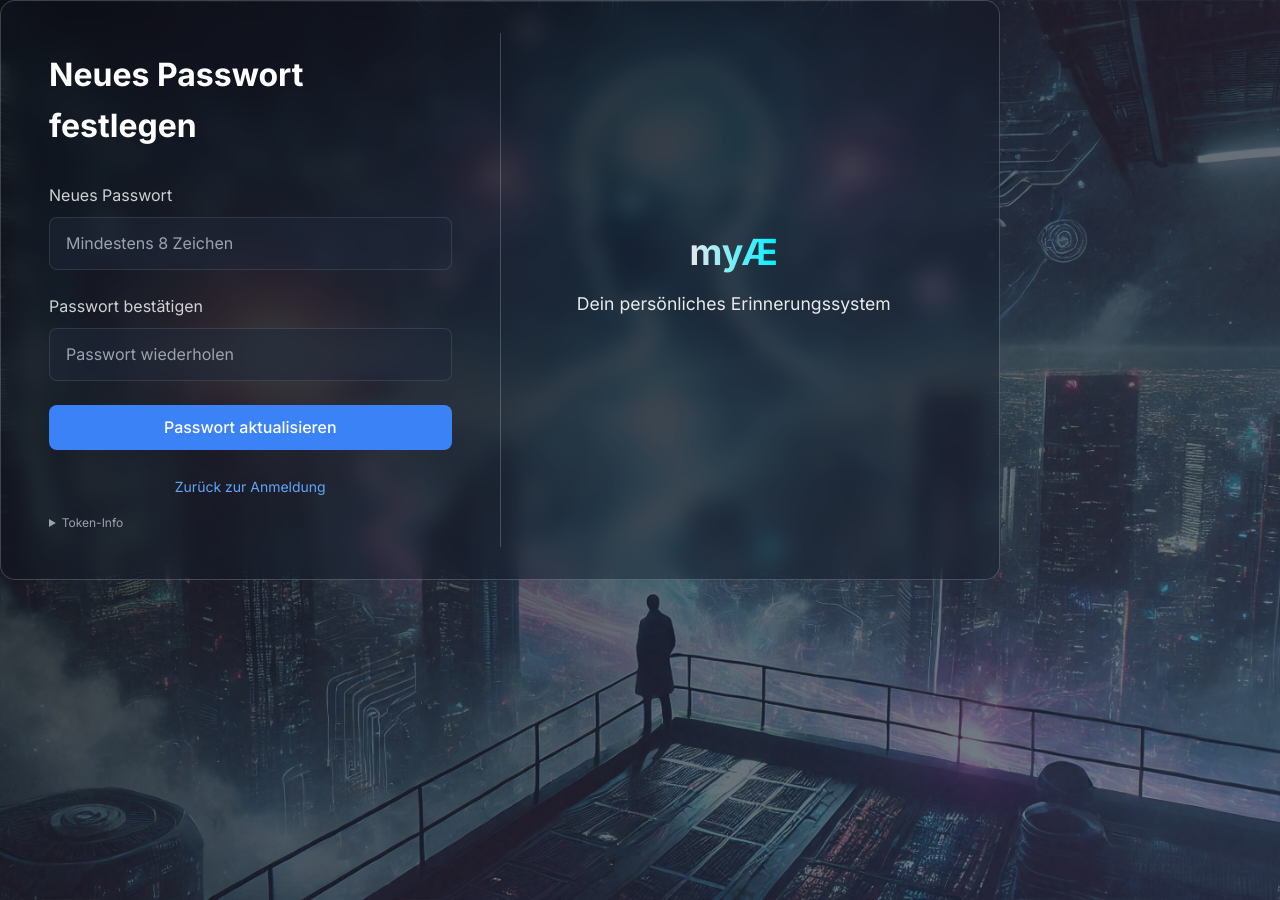
Test: UpdatePasswordForm › zeigt Fehlermeldung bei fehlgeschlagener API-Anfrage
The width and height of the screenshot is (1280, 900).
// Gültiges Passwort eingeben
Type "neuesPasswort123" into the password field labelled "Neues Passwort" at (250, 244), box [49,217,452,270]
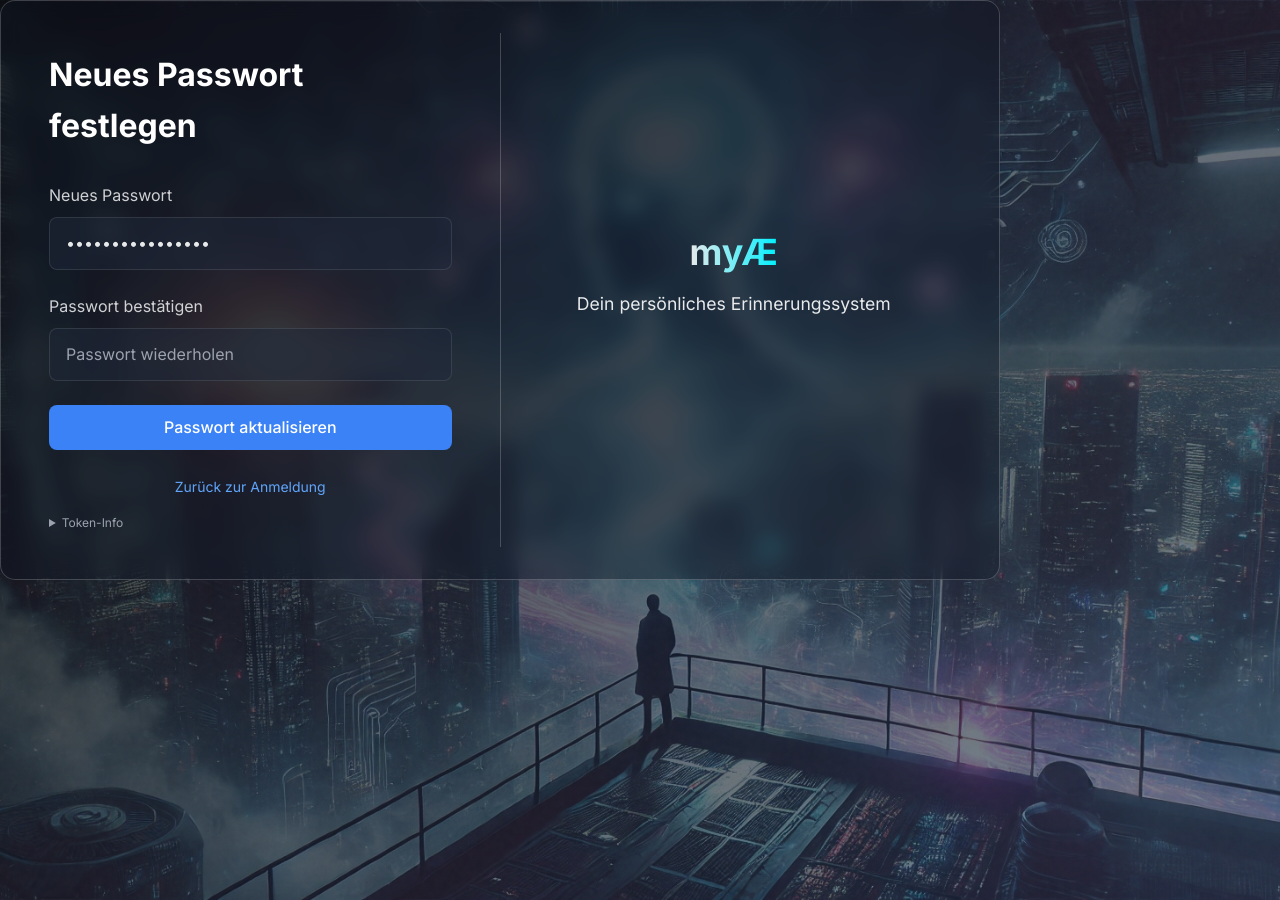
Type "neuesPasswort123" into the password field labelled "Passwort bestätigen" at (250, 354), box [49,328,452,381]
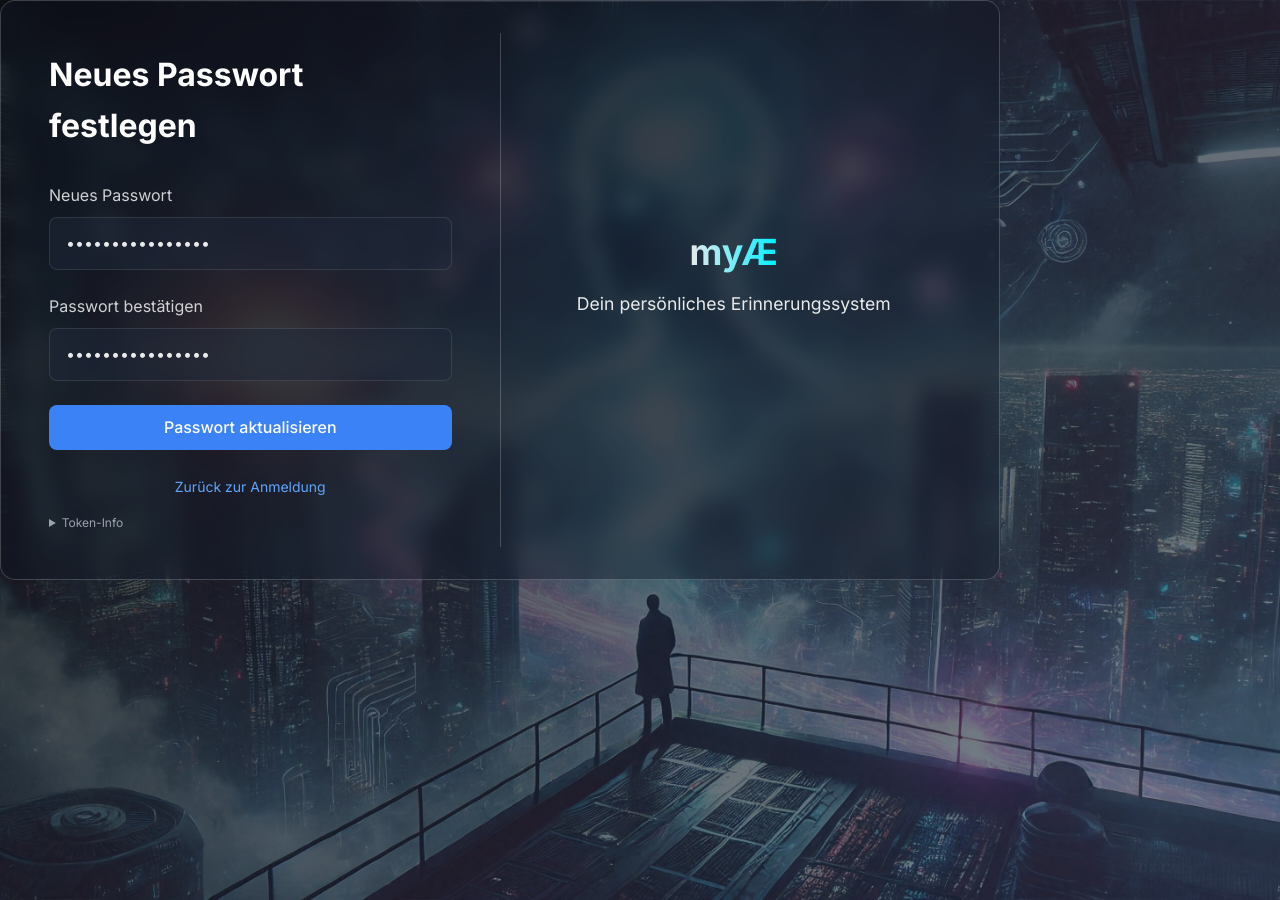
// Formular absenden
Click the button "Passwort aktualisieren" at (250, 427), box [49,405,452,450]
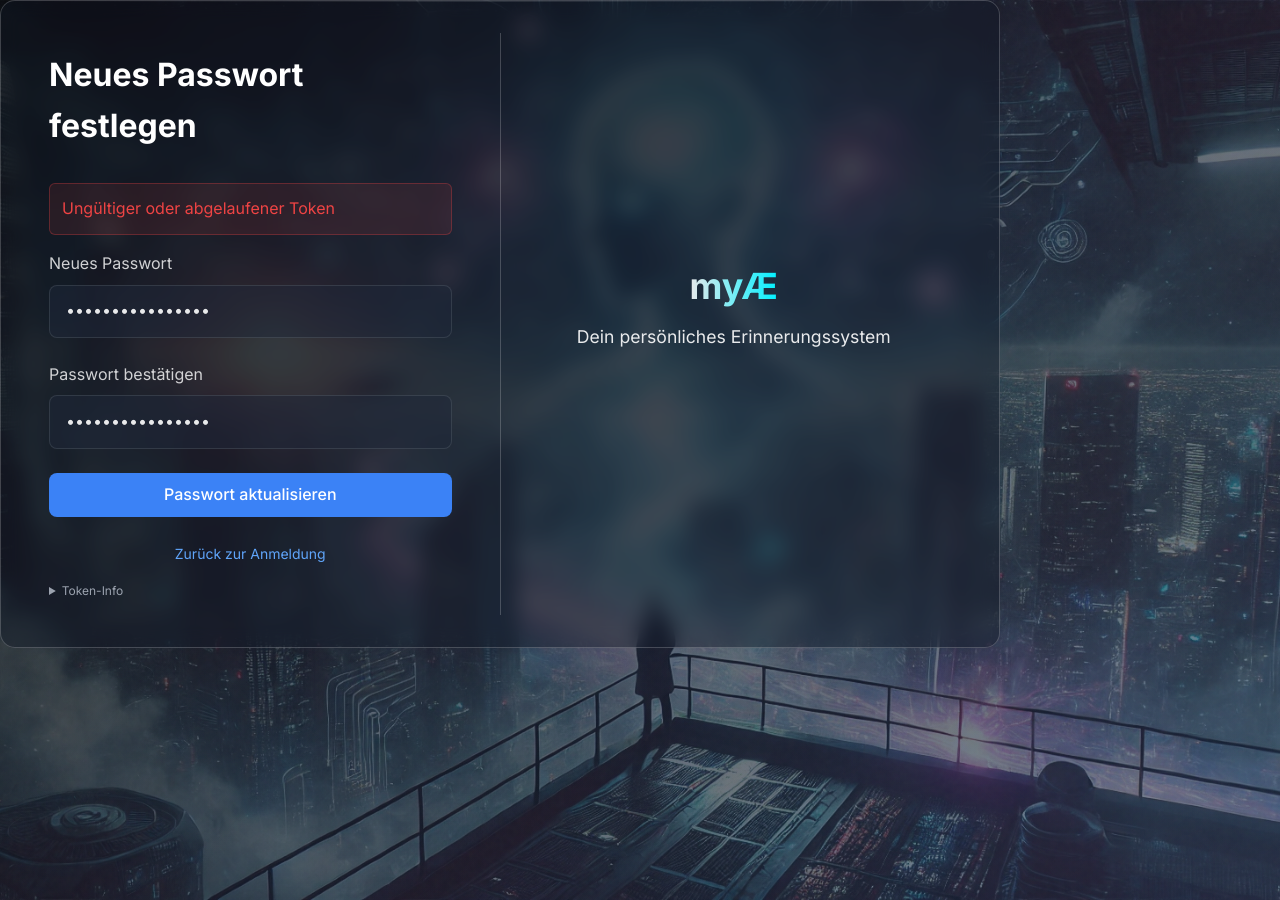
Check: the text "Ungültiger oder abgelaufener Token" is shown, box [49,183,452,235]
